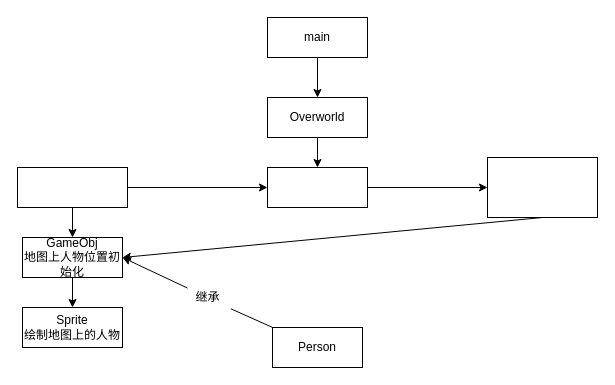
Image size: 615x385. Some labels were removed from this diagram. Here are the shapes that lost their labels. From the top down, the centre of each, then its label:
(72,187): OverWorldMap 初始化地图并绘制地图
(317,187): new OverWorldMap(Map.xx)
(542,187): Map存储场景里：地图人物信息
